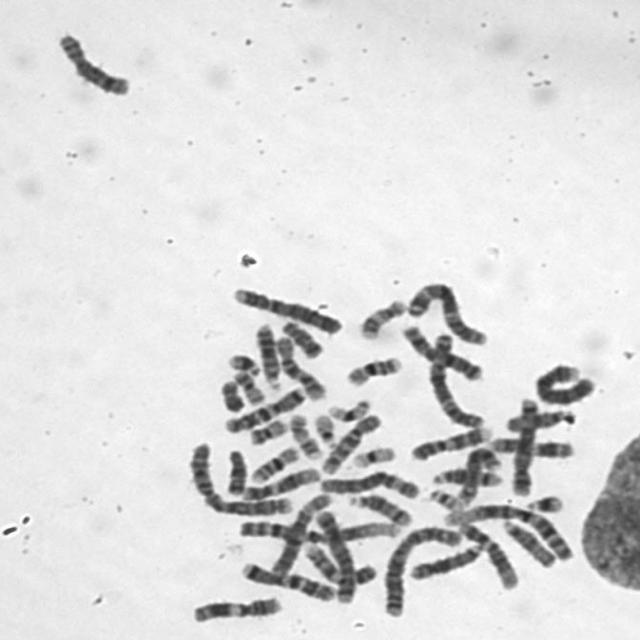A1: (436, 497, 576, 565), (233, 512, 405, 546)
A2: (180, 436, 298, 518), (377, 519, 465, 619)
A3: (419, 324, 487, 430), (399, 274, 492, 346)
B4: (226, 280, 346, 335), (529, 356, 600, 407)
B5: (309, 502, 360, 606), (507, 390, 542, 498)
C10: (315, 407, 385, 475), (269, 330, 329, 402)
C11: (186, 590, 286, 625), (481, 431, 576, 460)
C12: (452, 515, 522, 591), (235, 460, 321, 502)
C6: (263, 486, 333, 577), (314, 464, 423, 501)
C7: (219, 380, 309, 434), (235, 556, 338, 602)
C8: (50, 26, 134, 98), (450, 441, 505, 506)
C9: (297, 536, 379, 586), (405, 419, 496, 462)
D13: (403, 538, 486, 581), (250, 317, 284, 391)
D14: (343, 488, 415, 527), (426, 462, 505, 489)
D15: (496, 512, 560, 569), (499, 403, 577, 433)
E16: (339, 349, 405, 388), (245, 440, 302, 484)
E17: (353, 292, 409, 340), (284, 408, 326, 461)
E18: (275, 314, 325, 360), (219, 443, 249, 496)
F19: (321, 392, 375, 422), (346, 440, 399, 469)
F20: (227, 366, 268, 406), (243, 412, 290, 446)
G21: (520, 488, 567, 514), (220, 347, 262, 376)
G22: (308, 407, 340, 448), (422, 483, 462, 511)
X: (395, 318, 486, 382)
Y: (213, 374, 247, 414)
